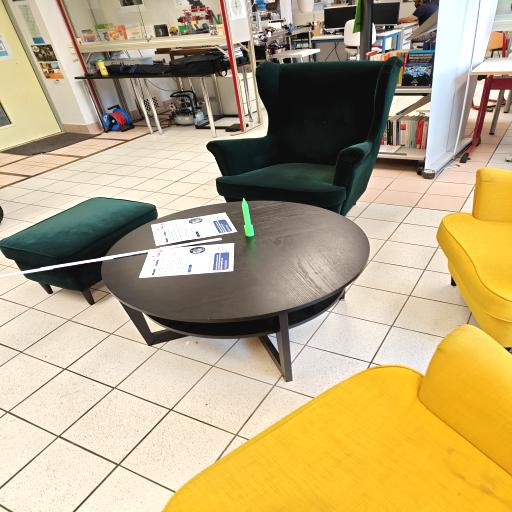Probe-Detection: (242, 198, 254, 237)
